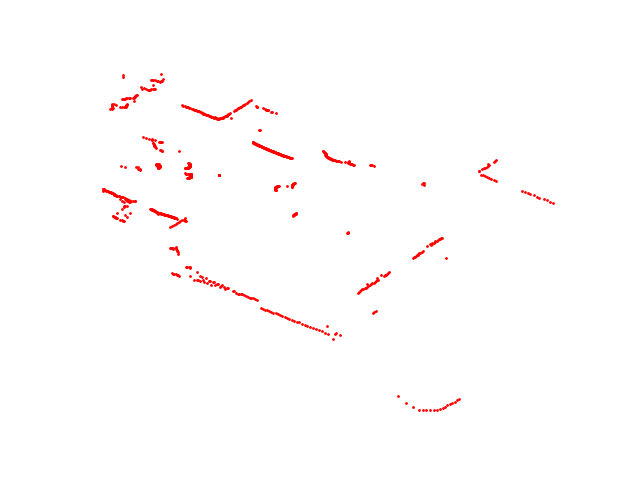person: (179, 159, 197, 182), (272, 178, 299, 192)
